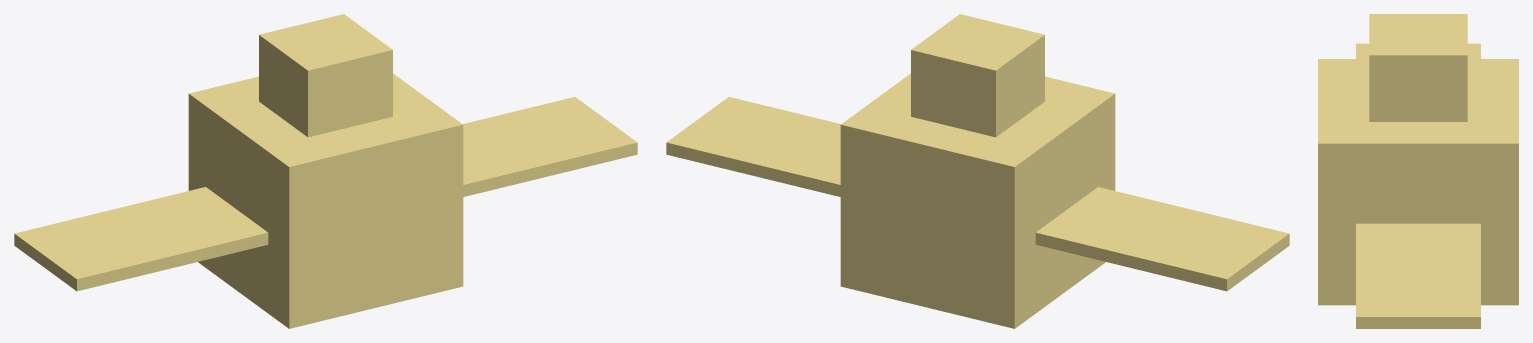
Rendered from cruise-stage.glb.
The picture shows the model from 3 angles, left to right: view 1: azimuth 30°, elevation 25°; view 2: azimuth 150°, elevation 25°; view 3: azimuth 270°, elevation 25°; orthographic projection.
Visible parts, largest first — view 1: cruise-stage-node; view 2: cruise-stage-node; view 3: cruise-stage-node.
Part boxes in pixels (x1=…): cruise-stage-node: x1=14, y1=14, x2=637, y2=328; cruise-stage-node: x1=666, y1=14, x2=1289, y2=328; cruise-stage-node: x1=1318, y1=14, x2=1518, y2=328.
Size of the model in its own units: 2.9 by 1.13 by 0.9.
